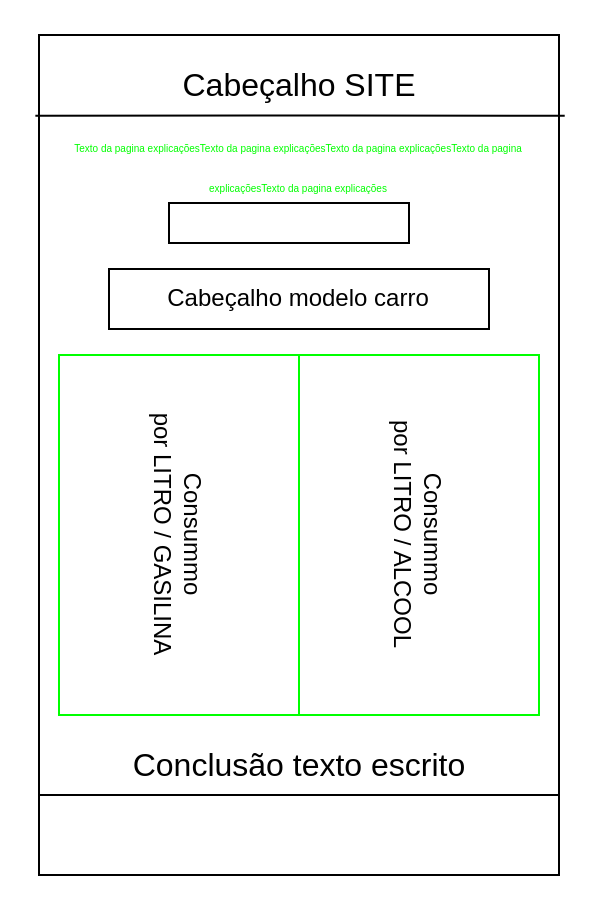
Image size: 602x910. Some labels were removed from this diagram. The centre of each missing label's shape, as x and y in pixels:
"Input modelo de carro" belongs at (288,222).
"RODA-PÉ" belongs at (298,834).
